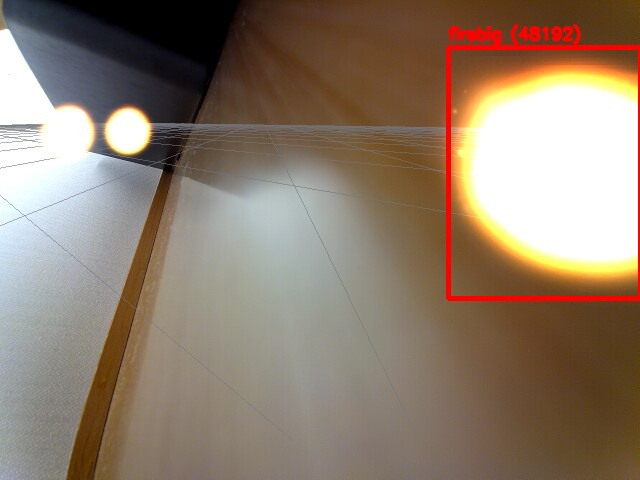firebig: (448, 47, 640, 298)
